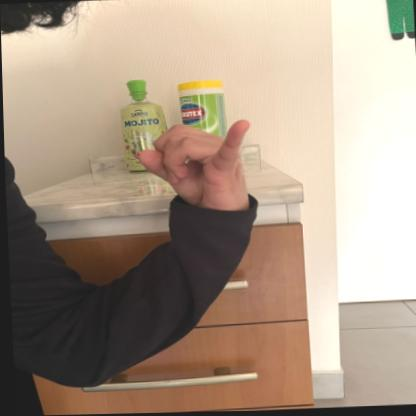I: (137, 109, 261, 225)
